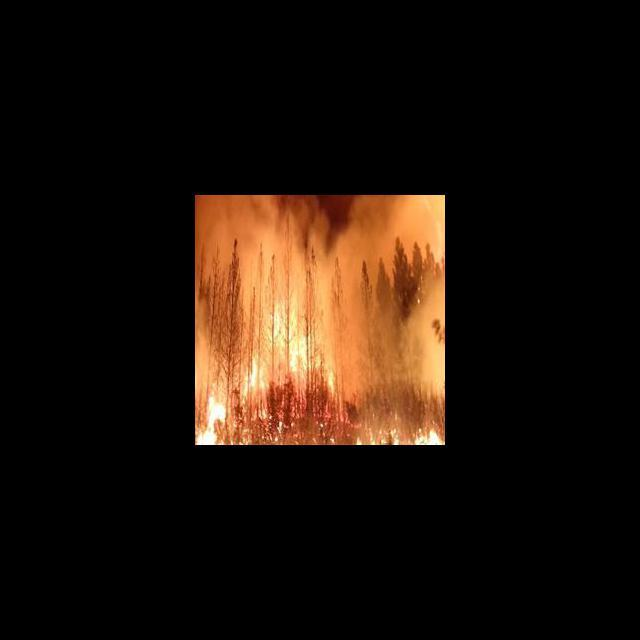Fire: (240, 292, 354, 394), (196, 380, 235, 444), (354, 426, 444, 444)
Smoke: (196, 195, 445, 266)
